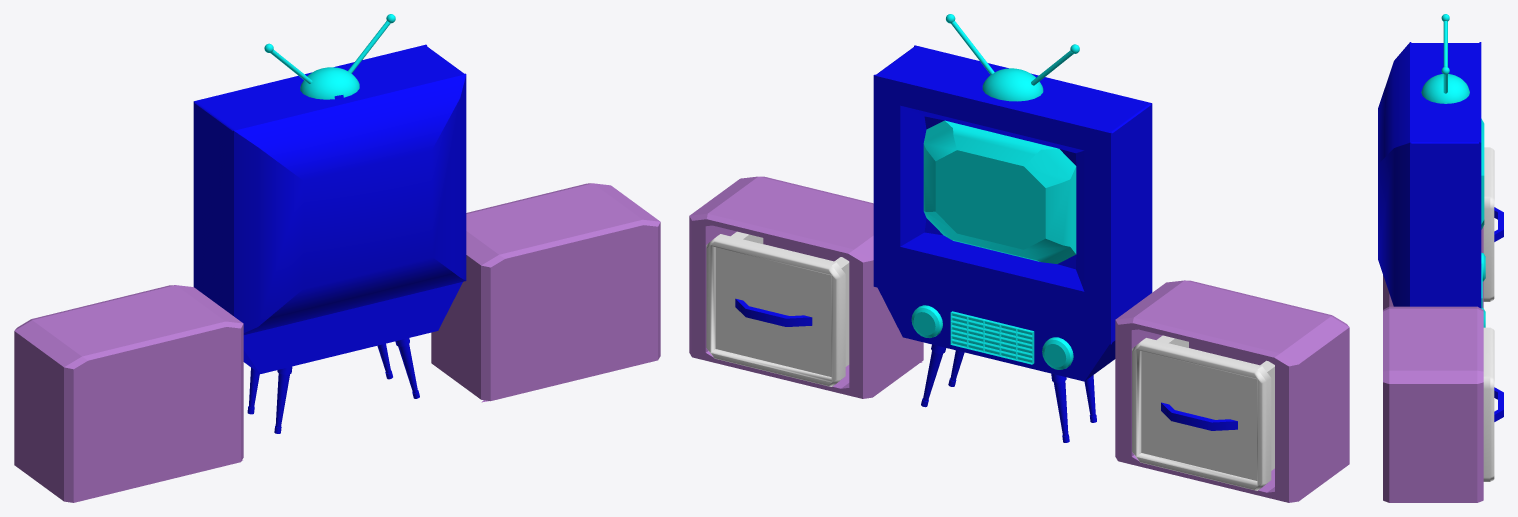
The model's file is televisionVintage.glb.
3 views of the same model, side by side, from view 1: azimuth 30°, elevation 25°; view 2: azimuth 150°, elevation 25°; view 3: azimuth 270°, elevation 25° (orthographic). The views are drawn at different scales.
Visible parts, largest first — view 1: pCube265_Linear_Cabinet__Unfinished_:lambert3_0; view 2: pCube265_Linear_Cabinet__Unfinished_:lambert3_0; view 3: pCube265_Linear_Cabinet__Unfinished_:lambert3_0.
Part boxes in pixels (<box>): pCube265_Linear_Cabinet__Unfinished_:lambert3_0: <box>14,14,660,502</box>; pCube265_Linear_Cabinet__Unfinished_:lambert3_0: <box>689,14,1349,502</box>; pCube265_Linear_Cabinet__Unfinished_:lambert3_0: <box>1378,14,1503,502</box>.
Bounding box in the file's own units: 2.35 × 1.42 × 0.4844.
